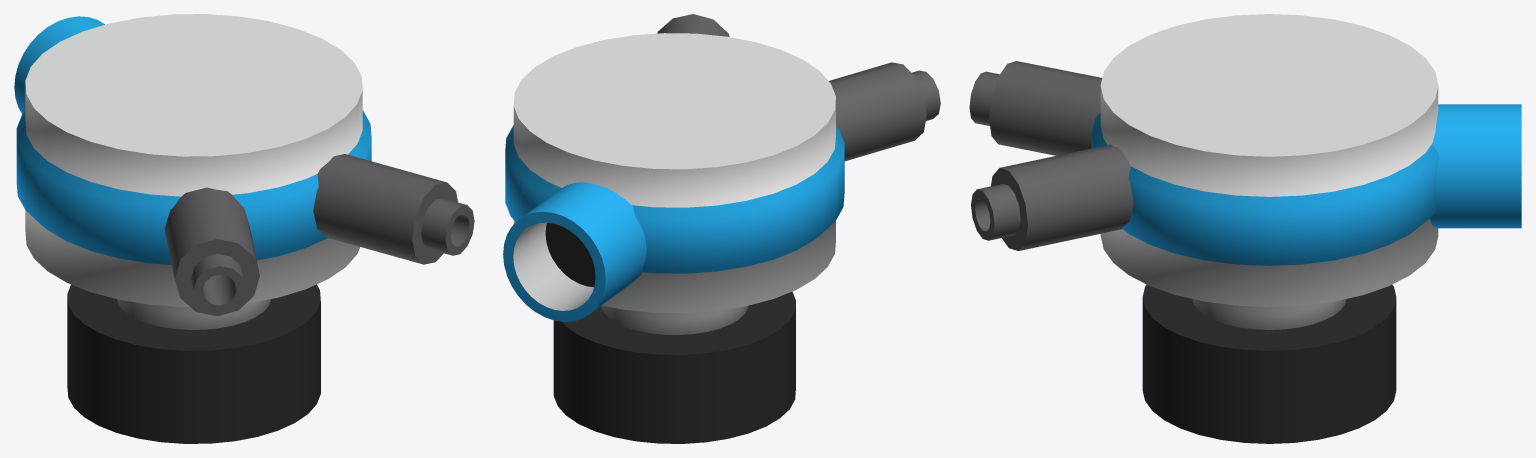
File: turret 1.fbx
3 views of the same model, side by side, from view 1: azimuth 30°, elevation 25°; view 2: azimuth 150°, elevation 25°; view 3: azimuth 270°, elevation 25° (orthographic). The views are drawn at different scales.
Parts seen in each view (by area): view 1: turret, cartridge doubler.002, cartridge doubler.001; view 2: turret, cartridge doubler.001, cartridge doubler.002; view 3: turret, cartridge doubler.002, cartridge doubler.001.
Boxes of the visible parts, x1,y1,x2,y2 form: turret: (14, 14, 371, 443); cartridge doubler.002: (313, 154, 474, 264); cartridge doubler.001: (164, 187, 259, 316); turret: (503, 33, 844, 443); cartridge doubler.001: (829, 62, 940, 161); cartridge doubler.002: (657, 14, 729, 36); turret: (1091, 14, 1521, 443); cartridge doubler.002: (971, 144, 1133, 250); cartridge doubler.001: (969, 61, 1102, 155).
Bounding box in the file's own units: 74.03 × 70.03 × 115.
Materials: 1 (1 with a texture image).
